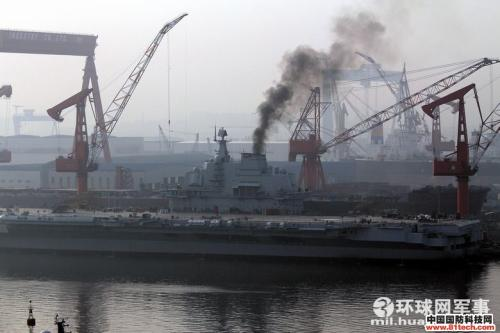smoke: (252, 13, 377, 150)
